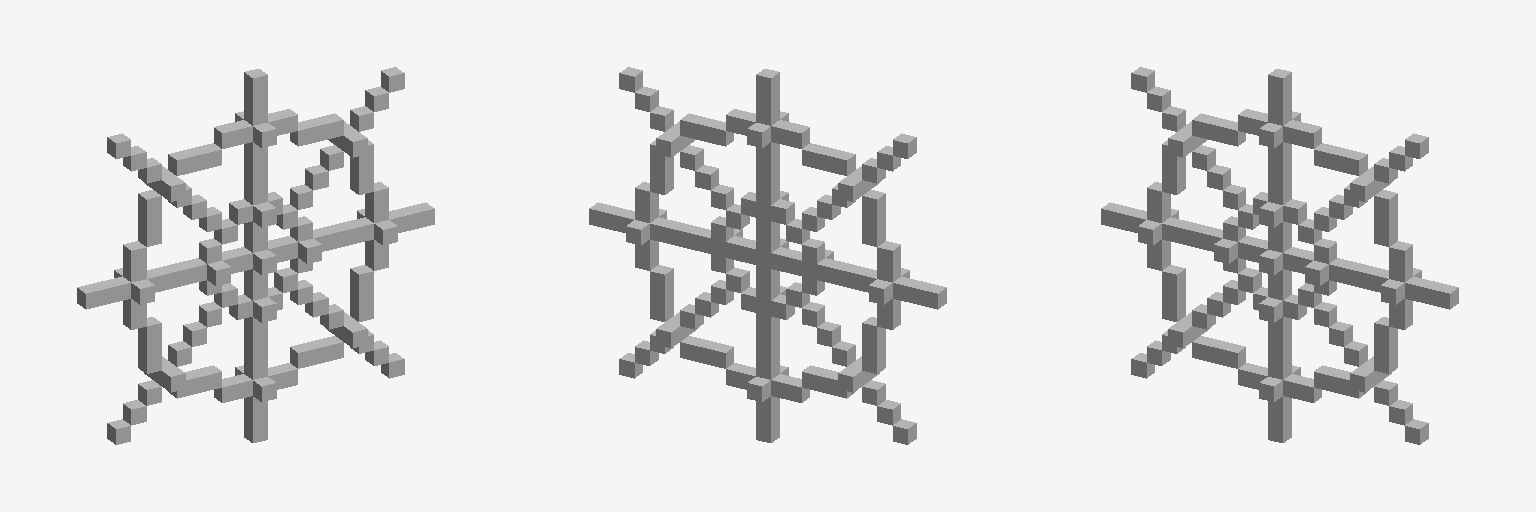
The model's file is Steering Wheel.obj.
3 renders of one model, left to right at view 1: azimuth 30°, elevation 25°; view 2: azimuth 150°, elevation 25°; view 3: azimuth 330°, elevation 25°, orthographic.
Parts seen in each view (by area): view 1: object 1; view 2: object 1; view 3: object 1.
Part boxes in pixels (x1,y1,x2,y2): object 1: (77,67,434,444); object 1: (589,67,946,444); object 1: (1101,67,1458,444).
Bounding box in the file's own units: 2.3 × 2.3 × 0.3.